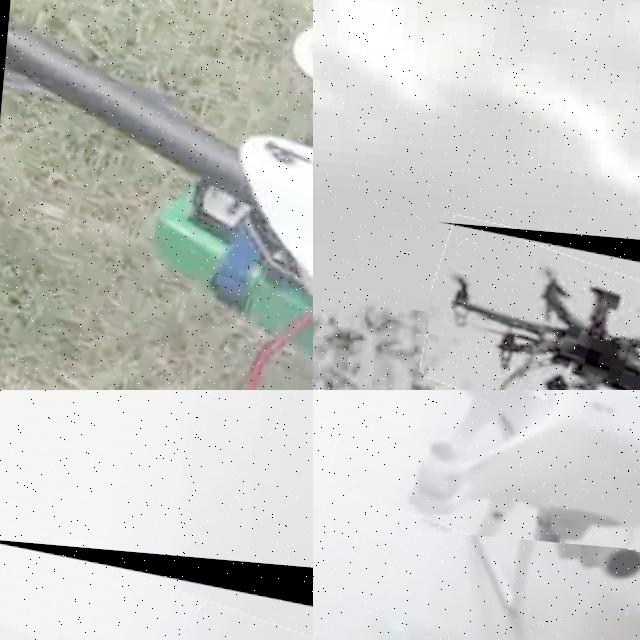drone: (0, 0, 313, 390), (332, 390, 640, 558), (421, 221, 640, 390), (0, 537, 313, 640)
